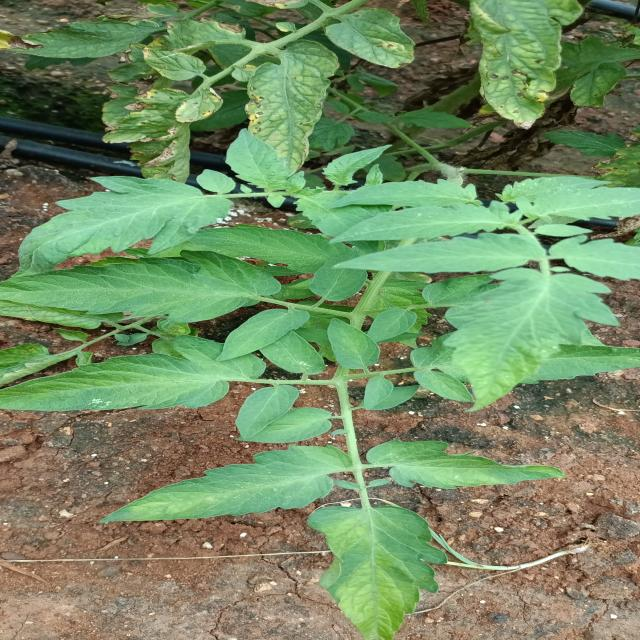Healthy Leaf: (5, 173, 256, 279), (442, 261, 614, 414), (68, 449, 365, 528), (1, 252, 285, 329), (4, 354, 231, 416), (370, 437, 579, 498), (325, 199, 522, 243), (195, 307, 327, 363), (319, 314, 385, 377)
